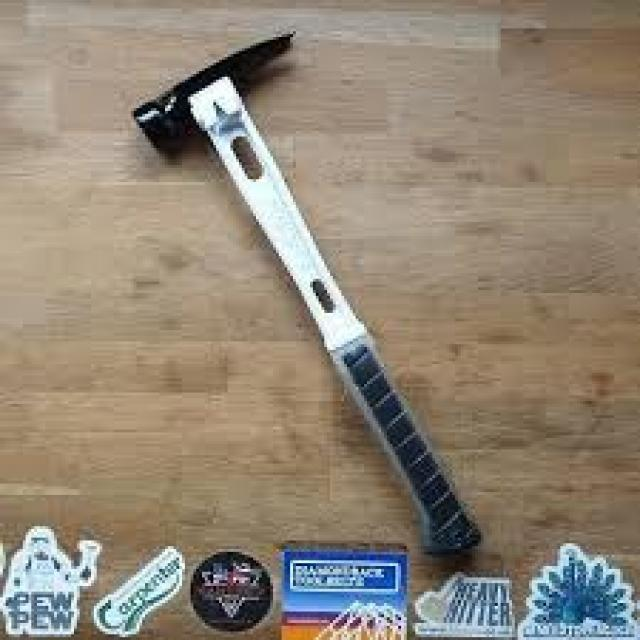hammer: (118, 19, 495, 560)
